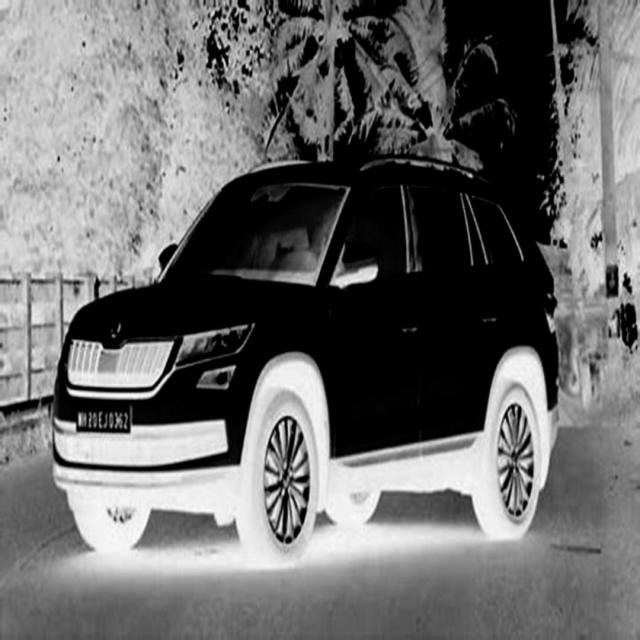Non_registered: (76, 405, 130, 433)
